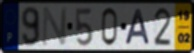0: (100, 6, 119, 47)
2: (152, 6, 173, 48)
5: (75, 6, 95, 47)
9: (20, 5, 42, 49)
A: (124, 8, 152, 46)
N: (41, 6, 69, 48)
